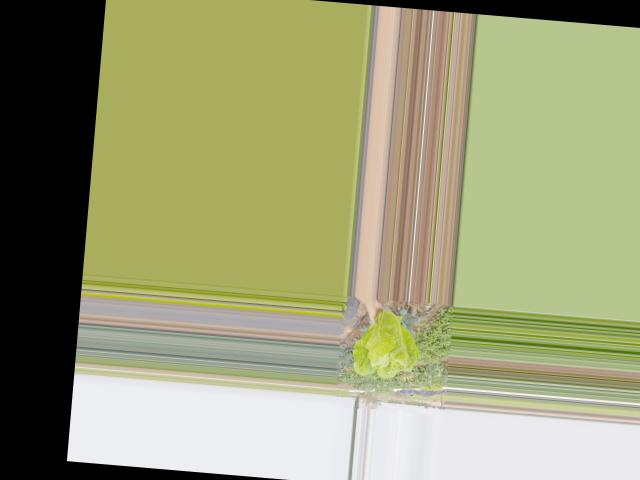lettuce: (347, 302, 424, 381)
